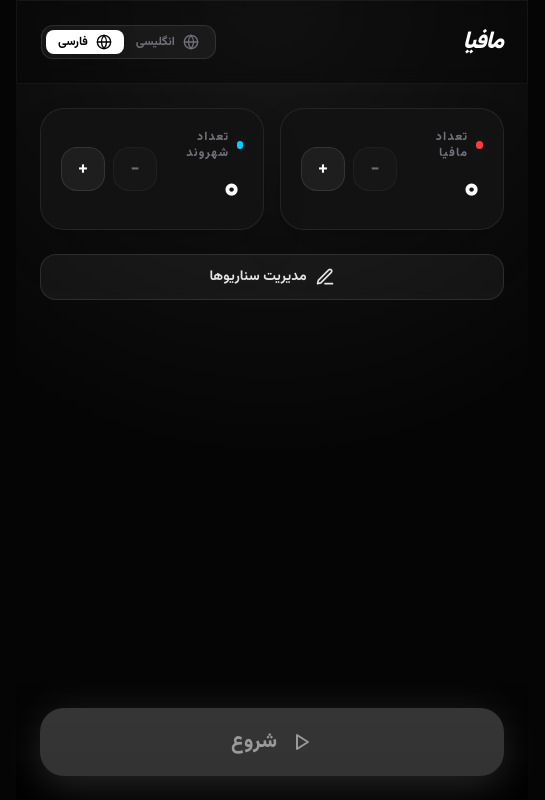
Test: Setup Screen › shows citizen role inputs when citizen count > 0
The width and height of the screenshot is (545, 800).
Click the button named "افزایش" at (83, 169), box [61,147,105,191]
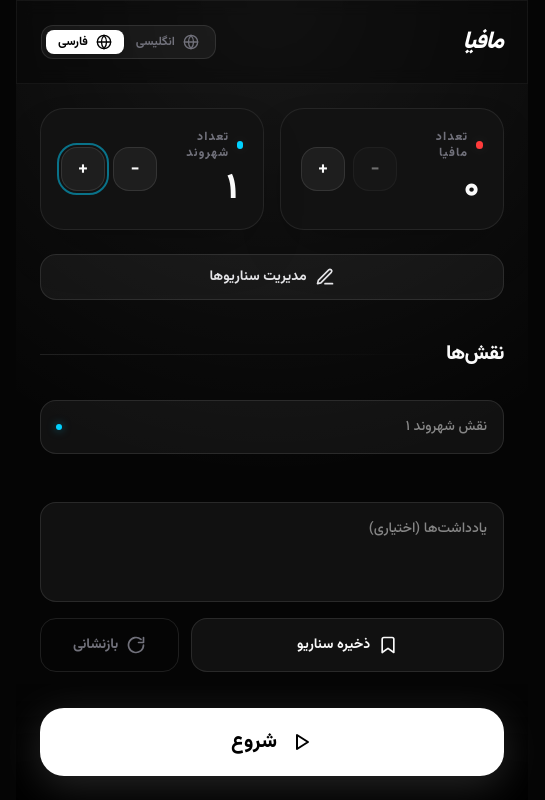
Check: the number of fields with placeholder "نقش شهروند ۱" is 1, box [40,400,504,454]
